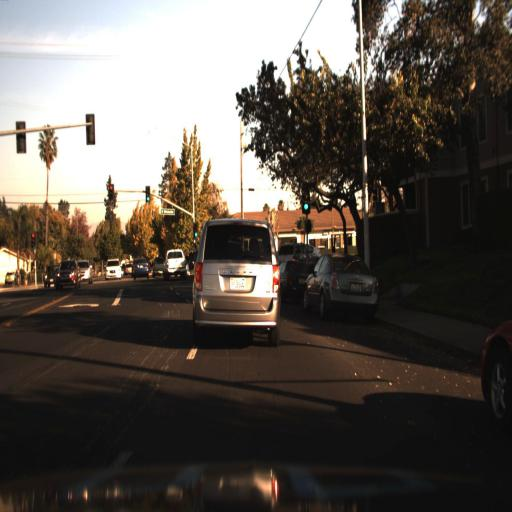car: (191, 211, 283, 345), (298, 249, 380, 317), (298, 238, 332, 269), (161, 243, 188, 282), (161, 246, 187, 281), (56, 255, 79, 294), (129, 248, 153, 284), (276, 237, 300, 272), (129, 252, 153, 284), (101, 252, 125, 279), (151, 247, 166, 278), (78, 258, 93, 286), (77, 259, 93, 285), (4, 268, 18, 293), (123, 256, 134, 278)
trafficLight: (301, 177, 314, 220), (297, 189, 314, 219)
trafficLight-Green: (191, 217, 200, 241), (144, 182, 152, 205), (191, 227, 198, 242)
trafficLight-Red: (26, 223, 36, 245)
trafficLight-RedLeft: (107, 178, 116, 206), (28, 228, 36, 252)
